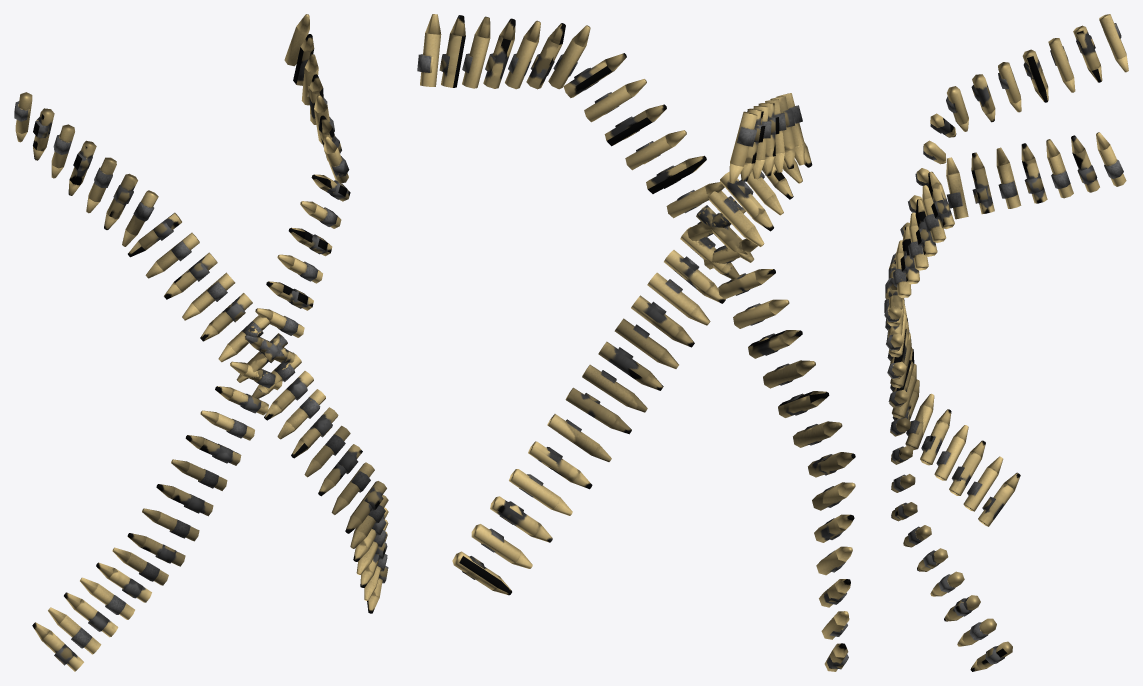
The model's file is gear_gunner.gltf.
3 renders of one model, left to right at view 1: azimuth 30°, elevation 25°; view 2: azimuth 150°, elevation 25°; view 3: azimuth 270°, elevation 25°, orthographic. The views are drawn at different scales.
Parts seen in each view (by area): view 1: belts__chest; view 2: belts__chest; view 3: belts__chest.
Part boxes in pixels (x1=…): belts__chest: x1=14, y1=14, x2=388, y2=671; belts__chest: x1=417, y1=14, x2=855, y2=671; belts__chest: x1=884, y1=14, x2=1128, y2=671.
Bounding box in the file's own units: 0.3313 × 0.5031 × 0.2069.
1 material, 1 textured.
